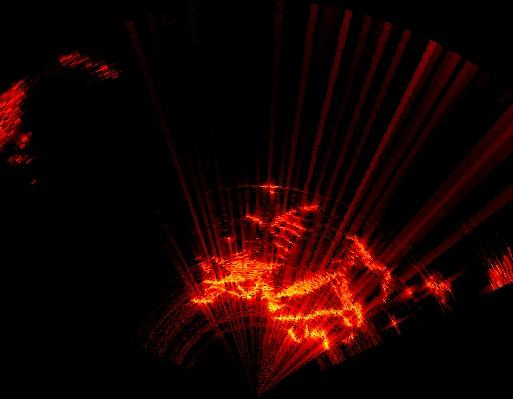shipwreck: (192, 240, 362, 349), (248, 205, 317, 260), (341, 235, 390, 301)
